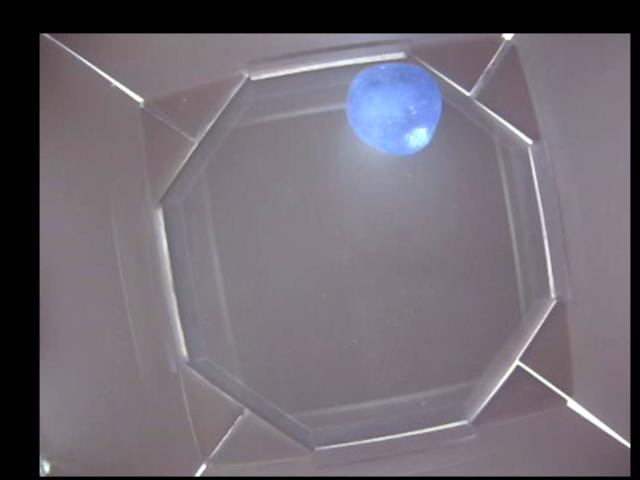Potato: (347, 62, 442, 155)
